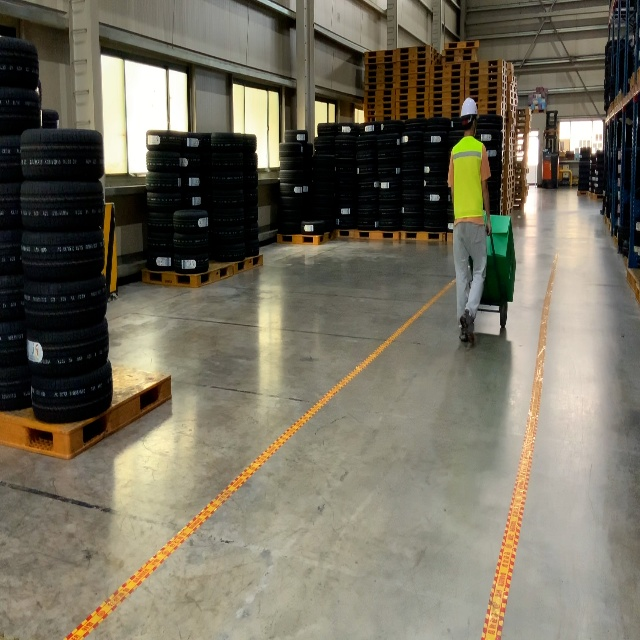Box: (469, 213, 514, 279), (480, 242, 516, 302)
Worker: (447, 96, 492, 347)
